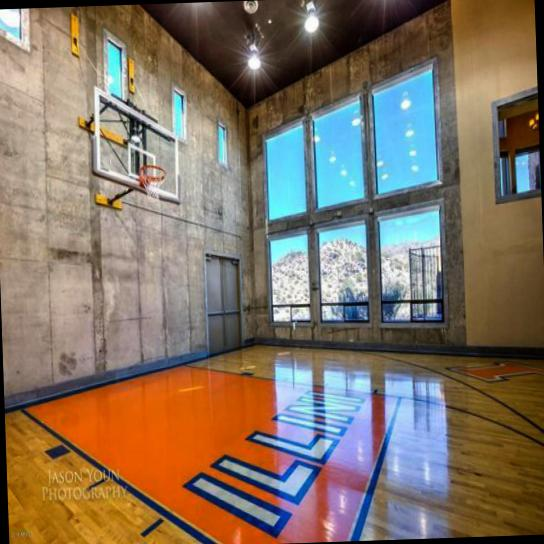basketball-hoop: (138, 160, 170, 208)
